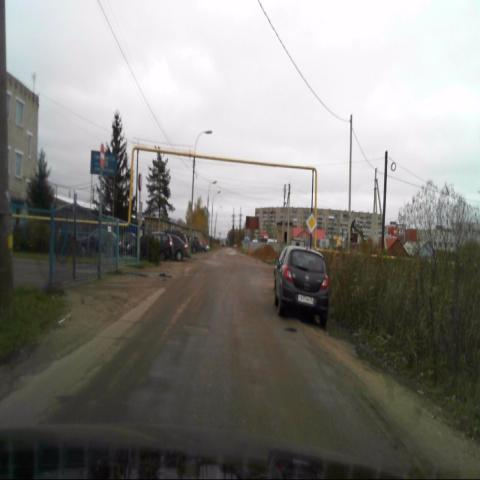2_1: (305, 212, 317, 235)
